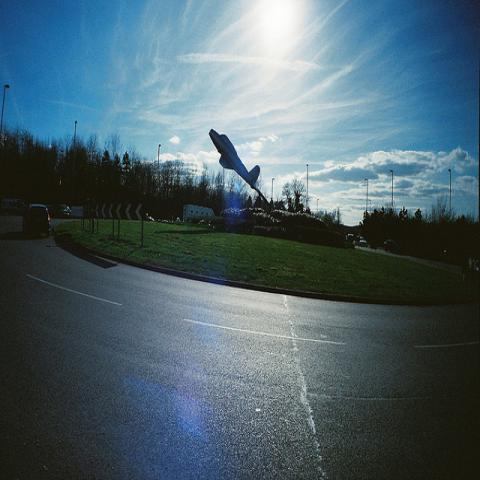car: (21, 203, 52, 238), (383, 239, 404, 254), (50, 204, 72, 218), (358, 237, 368, 247)
